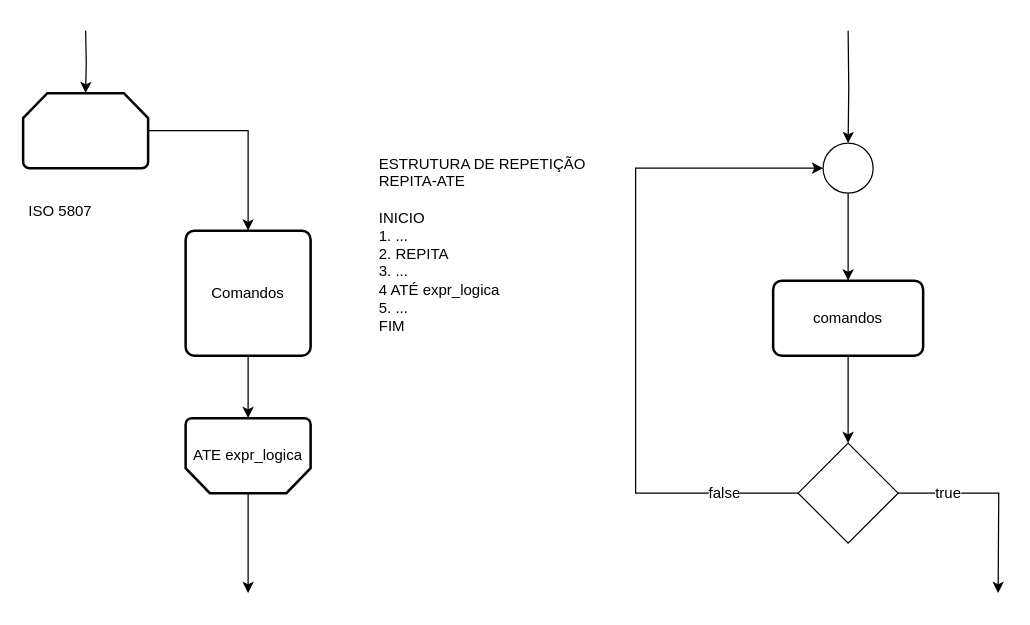
Some shapes in this 1030 by 625 pixel diagram are drawn without their labels. The centre of each missing label's shape, as x and y in pixels:
expr_logica: (x=847, y=492)
REPITA: (x=85, y=130)
